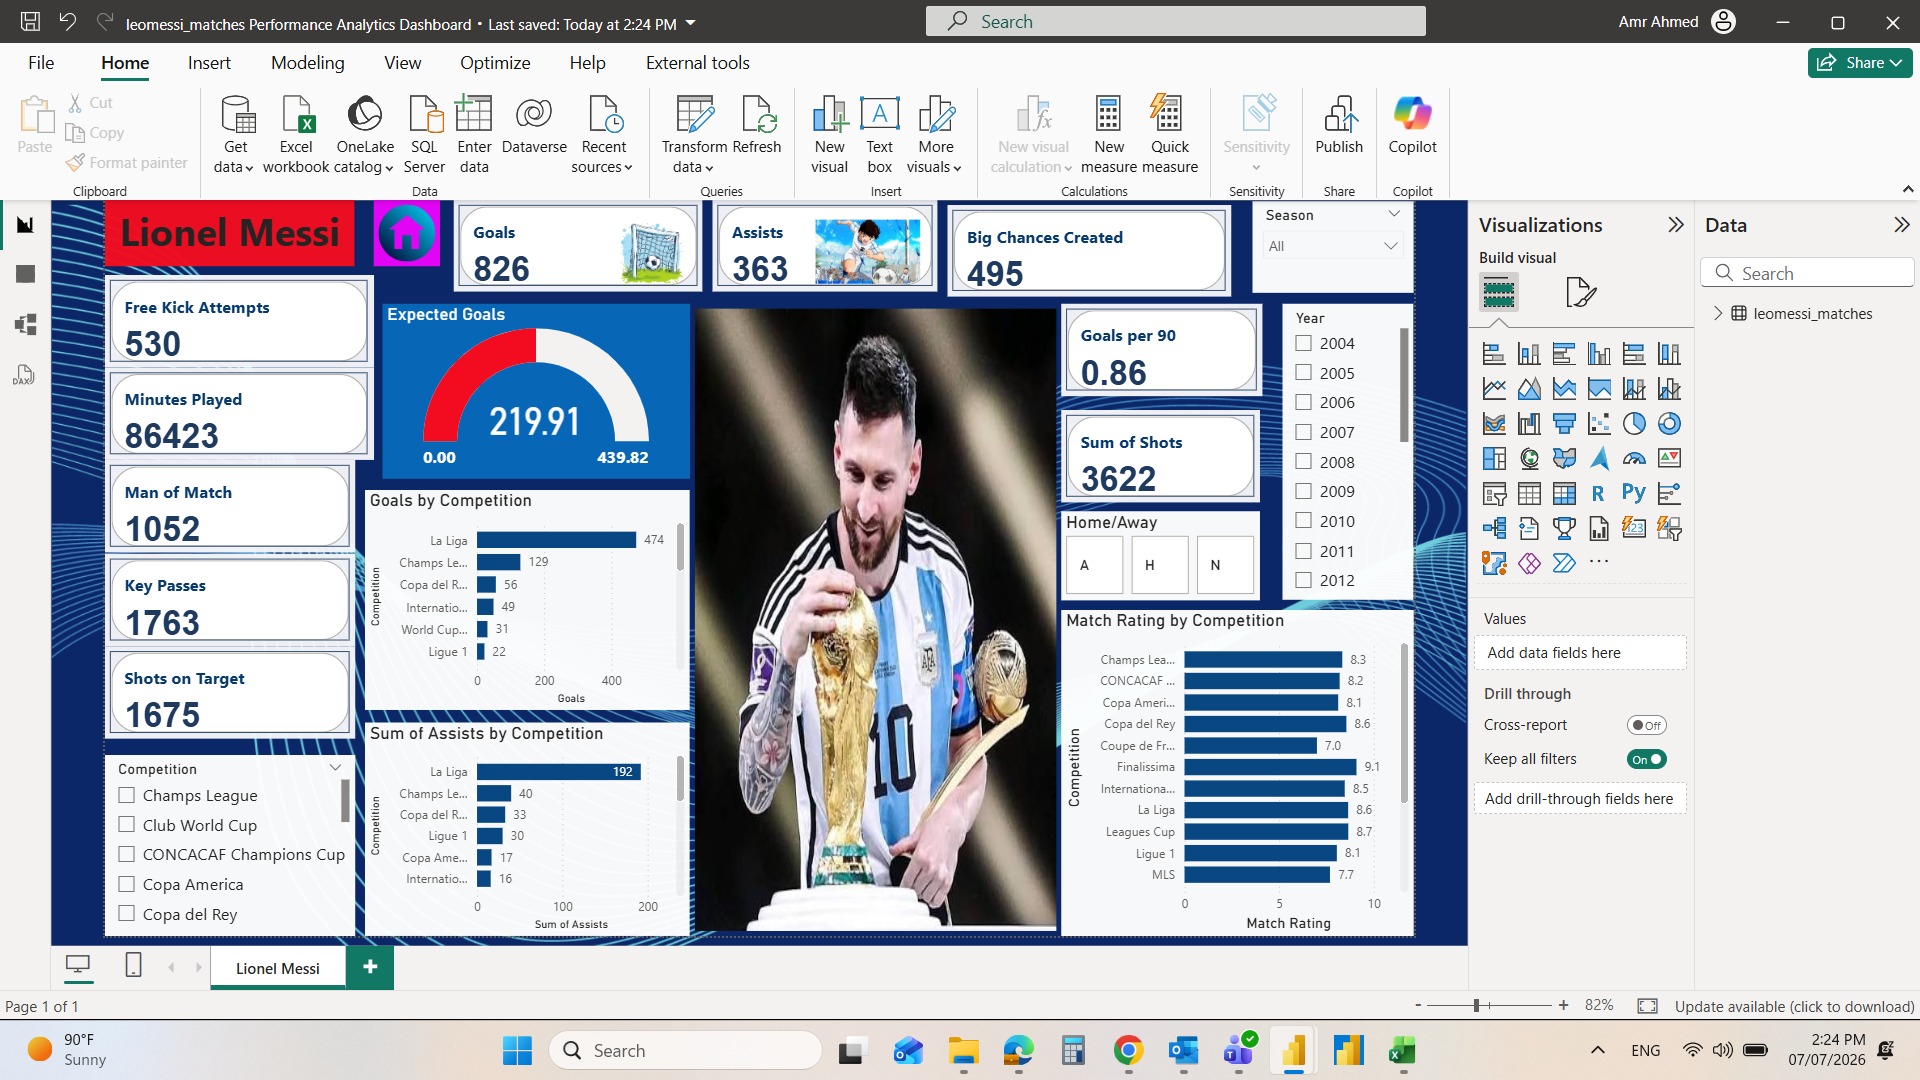

The page's visual inventory and layout, read from the dashboard file:
{"tool":"powerbi","page":{"name":"Lionel Messi","canvas":[1280,720],"ordinal":0},"visuals":[{"type":"slicer","fields":{"Values":["leomessi_matches.Competition"]},"box":[0,542.9,244.6,177.3],"z":0},{"type":"cardVisual","fields":{"Data":["Sum(leomessi_matches.Goals)"]},"box":[340.9,0,243,89.9],"z":1000},{"type":"cardVisual","fields":{"Data":["Sum(leomessi_matches.Assists)"]},"box":[594.1,0,220.3,89.9],"z":2000},{"type":"image","box":[262.9,0,64.8,64.8],"z":3000},{"type":"textbox","box":[0,0,244.3,64.6],"z":4000},{"type":"image","box":[572.3,101.5,363.2,618.8],"z":5000},{"type":"cardVisual","fields":{"Data":["Sum(leomessi_matches.Key Passes)"]},"box":[0,346.1,244.6,90.5],"z":6000},{"type":"barChart","fields":{"Y":["Sum(leomessi_matches.Goals)"],"Category":["leomessi_matches.Competition"]},"box":[254.4,283.5,317.7,215.2],"z":7000},{"type":"barChart","fields":{"Y":["Sum(leomessi_matches.Assists)"],"Category":["leomessi_matches.Competition"]},"box":[254.4,511.4,317.7,208.9],"z":8000},{"type":"gauge","fields":{"Y":["Sum(leomessi_matches.Expected Goals)"]},"box":[271.5,101.5,300.8,171.2],"z":9000},{"type":"slicer","fields":{"Values":["leomessi_matches.Season"]},"box":[1122.6,1.2,157.7,89.3],"z":10000},{"type":"cardVisual","fields":{"Data":["Sum(leomessi_matches.Big Chances Created)"]},"box":[824.5,5.1,277.2,89.9],"z":11000},{"type":"barChart","fields":{"Category":["leomessi_matches.Competition"],"Y":["Avg(leomessi_matches.Match Rating)"]},"box":[935.5,401.1,344.8,319.2],"z":12000},{"type":"slicer","fields":{"Values":["leomessi_matches.Date.Variation.Date Hierarchy.Year"]},"box":[1151.9,101.5,128.4,289.8],"z":13000},{"type":"advancedSlicerVisual","fields":{"Values":["leomessi_matches.Home/Away"]},"box":[935.5,304.5,194.4,86.8],"z":14000},{"type":"cardVisual","fields":{"Data":["Sum(leomessi_matches.Free Kick Attempts)"]},"box":[0,73.4,262.9,90.5],"z":15000},{"type":"cardVisual","fields":{"Data":["Sum(leomessi_matches.Minutes Played)"]},"box":[0,163.9,262.9,90.5],"z":16000},{"type":"cardVisual","fields":{"Data":["Sum(leomessi_matches.Shots)"]},"box":[935.5,205.4,194.4,90.5],"z":17000},{"type":"cardVisual","fields":{"Data":["CountNonNull(leomessi_matches.MOTM)"]},"box":[0,254.3,244.6,90.5],"z":18000},{"type":"cardVisual","fields":{"Data":["Sum(leomessi_matches.Shots on Target)"]},"box":[0,436.6,244.6,90.5],"z":19000},{"type":"cardVisual","fields":{"Data":["leomessi_matches.Goals per 90"]},"box":[935.5,101.5,196.9,90.5],"z":20000}]}

Visuals, with their boxes on the page's 1280x720 design canvas (x1, y1, x2, y2). These are canvas units, not pixel positions in the 1920x1080 screenshot, which may show the page scaled, cropped or inside an application window:
slicer - leomessi_matches.Competition: select_region(0, 543, 245, 720)
cardVisual - Sum(leomessi_matches.Goals): select_region(341, 0, 584, 90)
cardVisual - Sum(leomessi_matches.Assists): select_region(594, 0, 814, 90)
image: select_region(263, 0, 328, 65)
textbox: select_region(0, 0, 244, 65)
image: select_region(572, 102, 936, 720)
cardVisual - Sum(leomessi_matches.Key Passes): select_region(0, 346, 245, 437)
barChart - Sum(leomessi_matches.Goals) x leomessi_matches.Competition: select_region(254, 284, 572, 499)
barChart - Sum(leomessi_matches.Assists) x leomessi_matches.Competition: select_region(254, 511, 572, 720)
gauge - Sum(leomessi_matches.Expected Goals): select_region(272, 102, 572, 273)
slicer - leomessi_matches.Season: select_region(1123, 1, 1280, 90)
cardVisual - Sum(leomessi_matches.Big Chances Created): select_region(824, 5, 1102, 95)
barChart - leomessi_matches.Competition x Avg(leomessi_matches.Match Rating): select_region(936, 401, 1280, 720)
slicer - leomessi_matches.Date.Variation.Date Hierarchy.Year: select_region(1152, 102, 1280, 391)
advancedSlicerVisual - leomessi_matches.Home/Away: select_region(936, 304, 1130, 391)
cardVisual - Sum(leomessi_matches.Free Kick Attempts): select_region(0, 73, 263, 164)
cardVisual - Sum(leomessi_matches.Minutes Played): select_region(0, 164, 263, 254)
cardVisual - Sum(leomessi_matches.Shots): select_region(936, 205, 1130, 296)
cardVisual - CountNonNull(leomessi_matches.MOTM): select_region(0, 254, 245, 345)
cardVisual - Sum(leomessi_matches.Shots on Target): select_region(0, 437, 245, 527)
cardVisual - leomessi_matches.Goals per 90: select_region(936, 102, 1132, 192)
